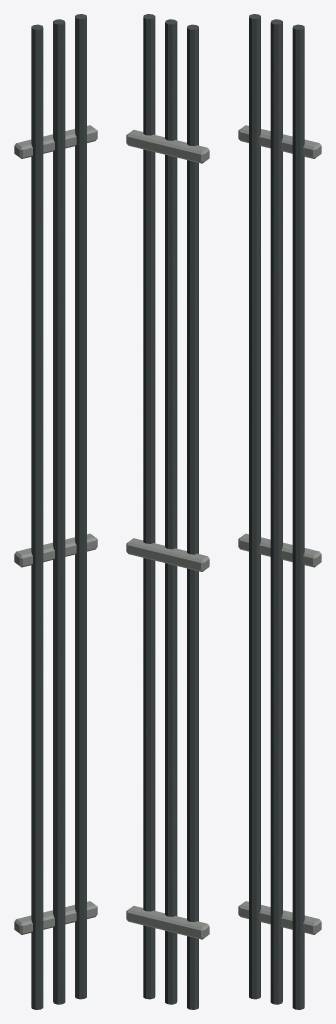
Rendered from D_Conduit_Straight12_visual.glb.
3 renders of one model, left to right at view 1: azimuth 30°, elevation 25°; view 2: azimuth 150°, elevation 25°; view 3: azimuth 330°, elevation 25°, orthographic.
Visible parts, largest first — view 1: D_Conduit_Straight12__VIS; view 2: D_Conduit_Straight12__VIS; view 3: D_Conduit_Straight12__VIS.
Part boxes in pixels (bbox=[...]): D_Conduit_Straight12__VIS: bbox=[14, 14, 97, 1009]; D_Conduit_Straight12__VIS: bbox=[126, 14, 209, 1009]; D_Conduit_Straight12__VIS: bbox=[238, 14, 321, 1009].
Size of the model in its own units: 1 by 12 by 0.225.
Materials: 1 (1 with a texture image).
